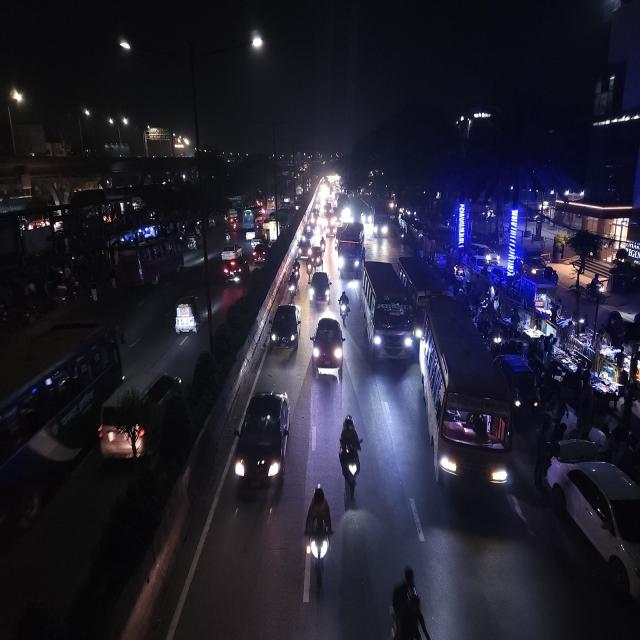bus: (0, 316, 122, 505), (419, 300, 513, 508), (360, 258, 416, 370), (113, 232, 185, 290), (332, 220, 365, 277), (372, 206, 390, 241)
car: (546, 448, 640, 617), (232, 384, 292, 504), (312, 313, 345, 385), (267, 301, 301, 359), (307, 268, 332, 308), (221, 258, 248, 288), (470, 243, 500, 267), (220, 242, 244, 268), (252, 242, 270, 270)
cng: (172, 292, 202, 340), (308, 244, 323, 273), (186, 230, 198, 252)
motorcycle: (301, 480, 335, 591), (337, 410, 365, 503), (337, 289, 351, 325), (286, 266, 300, 302), (289, 257, 301, 291)
